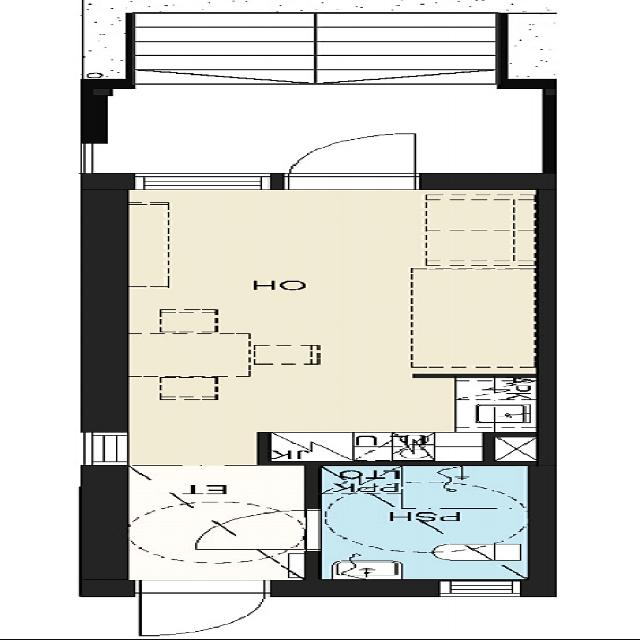door: (289, 129, 416, 189), (139, 580, 262, 639), (195, 511, 319, 548)
